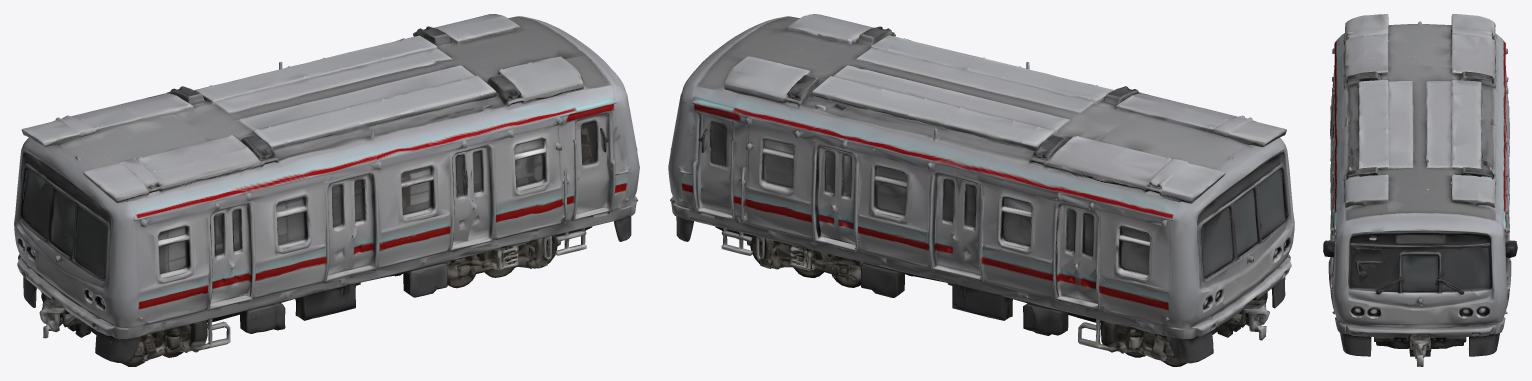
Rendered from metro.glb.
3 renders of one model, left to right at view 1: azimuth 30°, elevation 25°; view 2: azimuth 150°, elevation 25°; view 3: azimuth 270°, elevation 25°, orthographic. The views are drawn at different scales.
Visible parts, largest first — view 1: tripo_node_a922eccb-0561-4cd3-8566-032e7349b377; view 2: tripo_node_a922eccb-0561-4cd3-8566-032e7349b377; view 3: tripo_node_a922eccb-0561-4cd3-8566-032e7349b377.
Boxes of the visible parts, <box> form: tripo_node_a922eccb-0561-4cd3-8566-032e7349b377: <box>14,14,639,366</box>; tripo_node_a922eccb-0561-4cd3-8566-032e7349b377: <box>668,14,1294,366</box>; tripo_node_a922eccb-0561-4cd3-8566-032e7349b377: <box>1323,14,1517,366</box>.
Size of the model in its own units: 1 by 0.3194 by 0.3684.
Materials: 1 (1 with a texture image).
